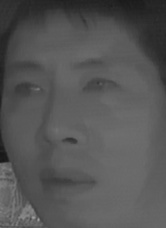eye: (80, 75, 121, 97), (8, 79, 46, 102)
mouth: (37, 160, 97, 201)
